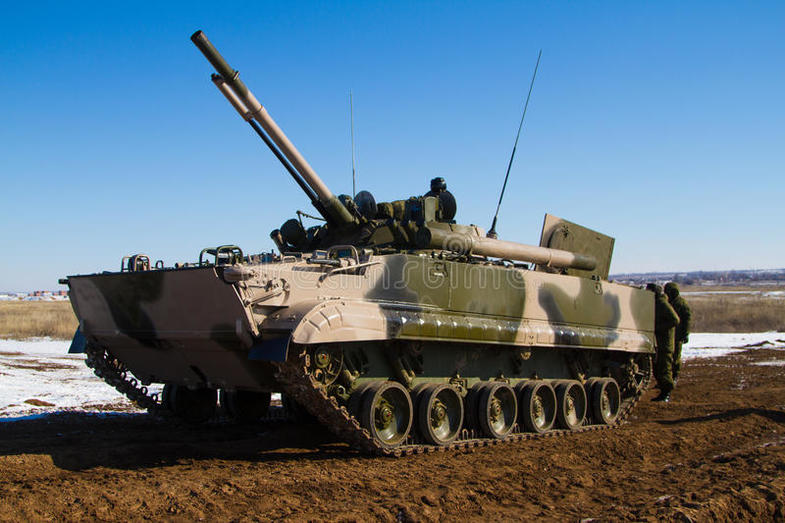bmp: (68, 174, 654, 445)
